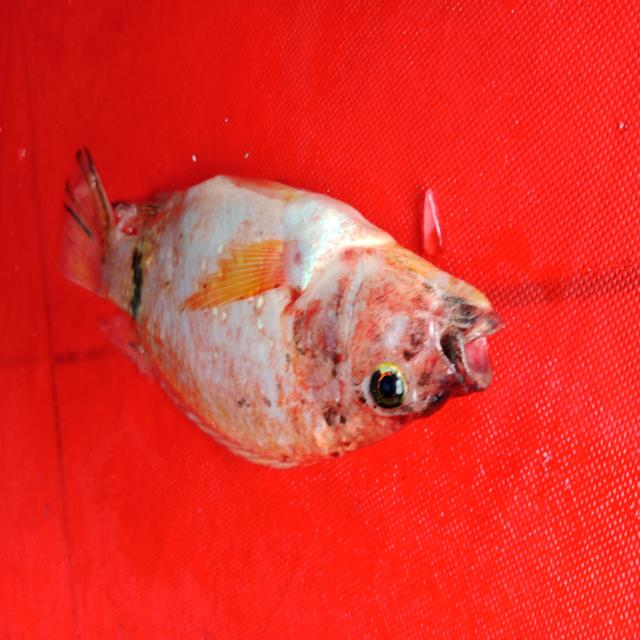ikan: (47, 127, 514, 480)
